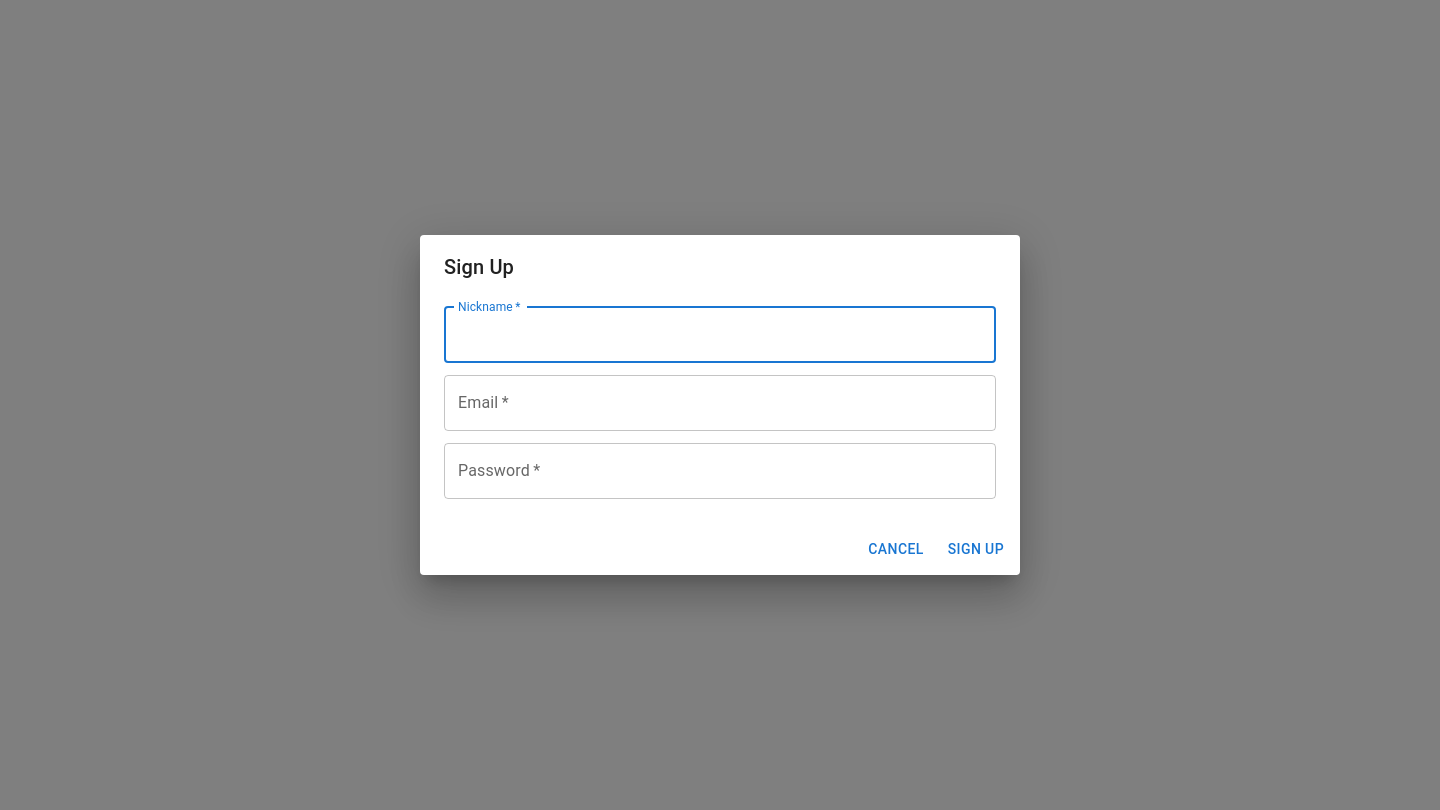
Test case: SignupModal › displays error message on signup failure
Type "testuser" into the field labelled "Nickname *" at (720, 335), box [444, 307, 996, 363]
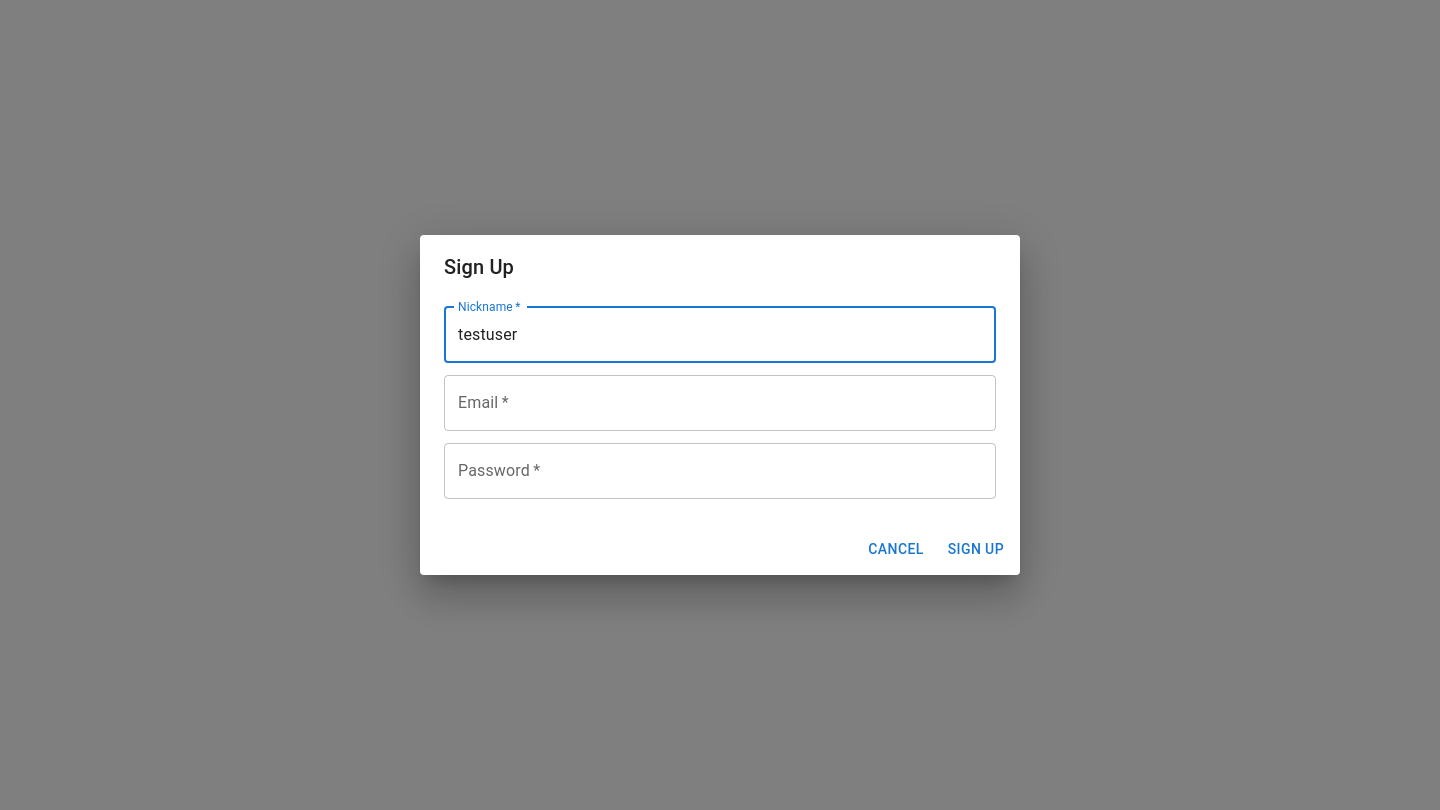
Type "test@example.com" into the field labelled "Email *" at (720, 403), box [444, 375, 996, 431]
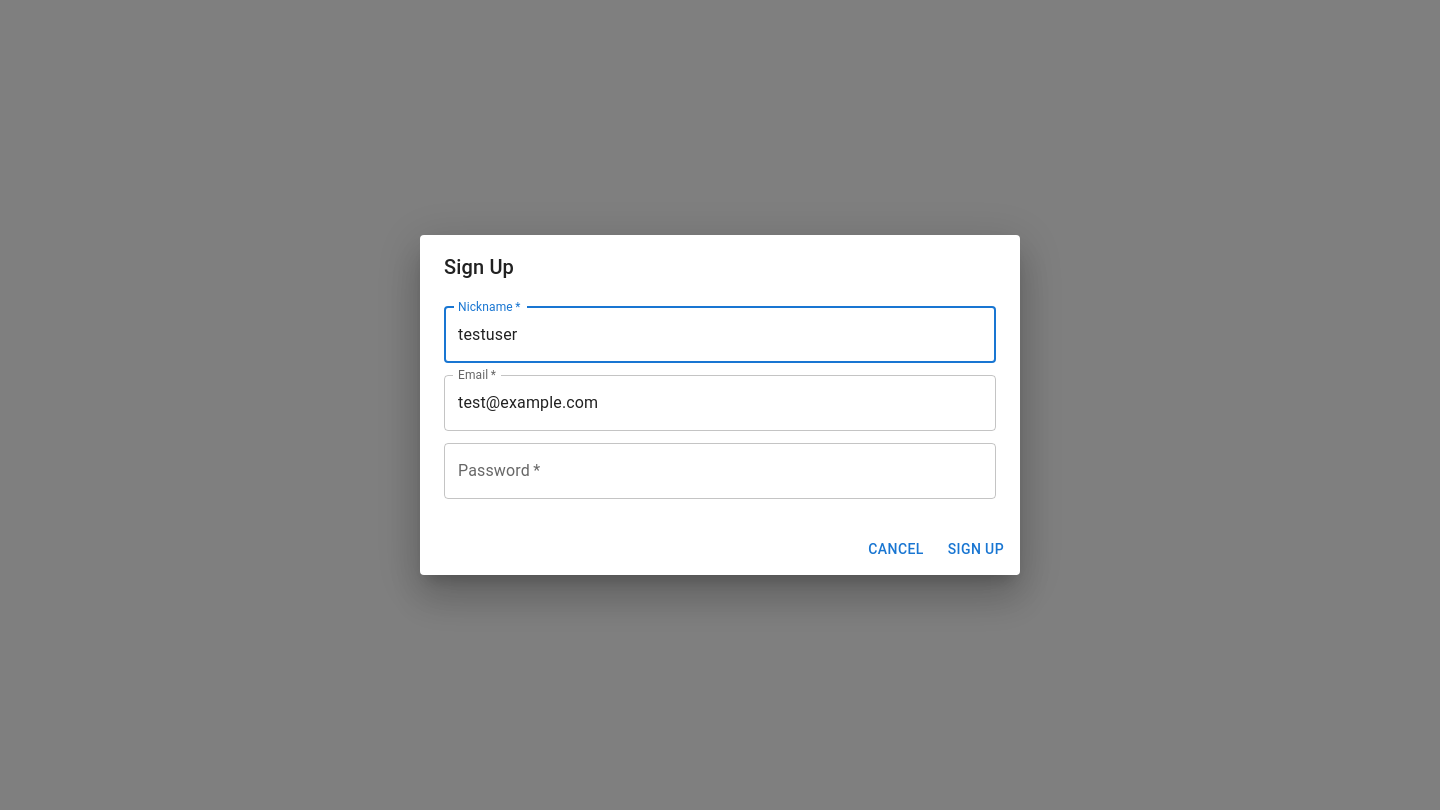
Type "password123" into the password field labelled "Password *" at (720, 471), box [444, 443, 996, 499]
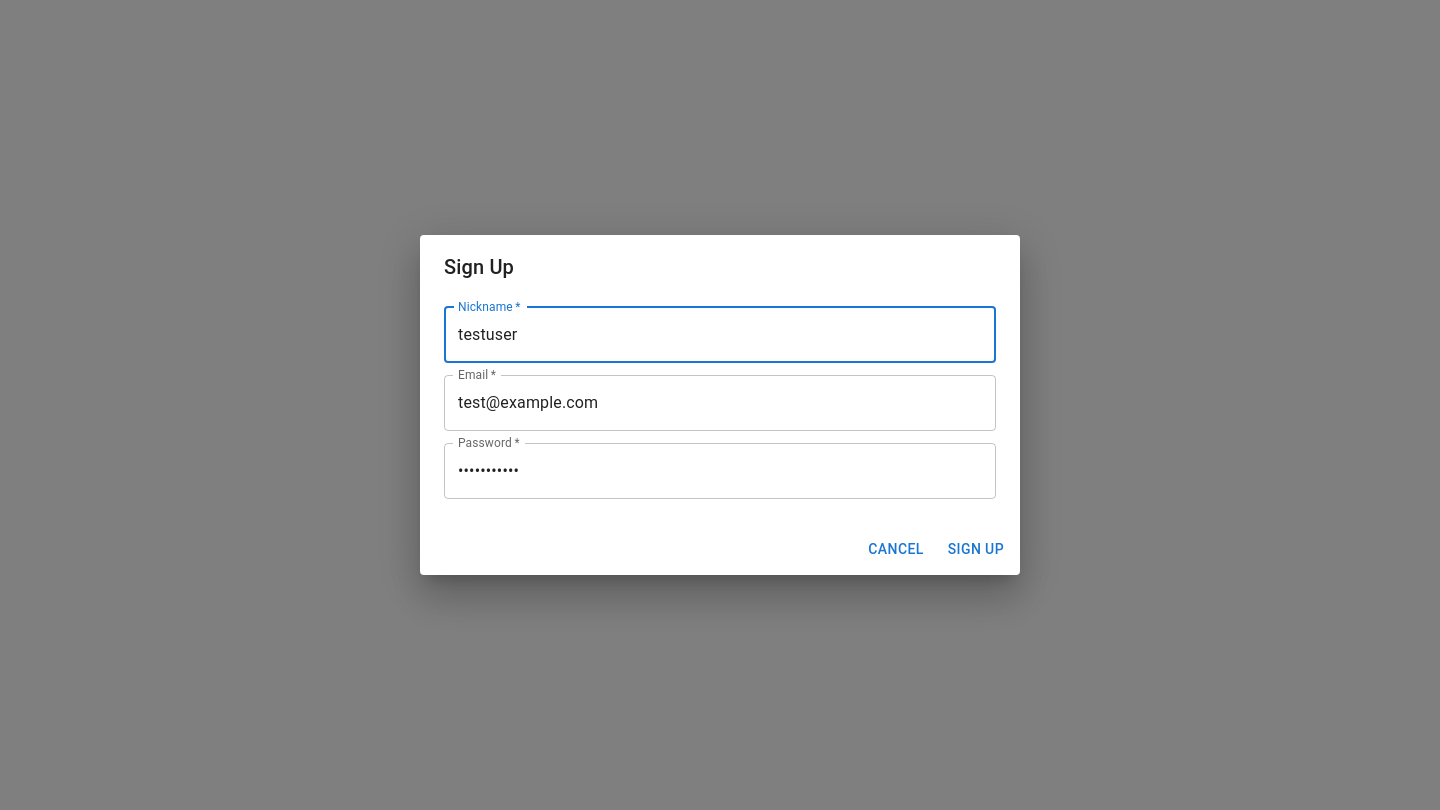
Click the button "Sign Up" at (976, 549), box [940, 531, 1012, 567]
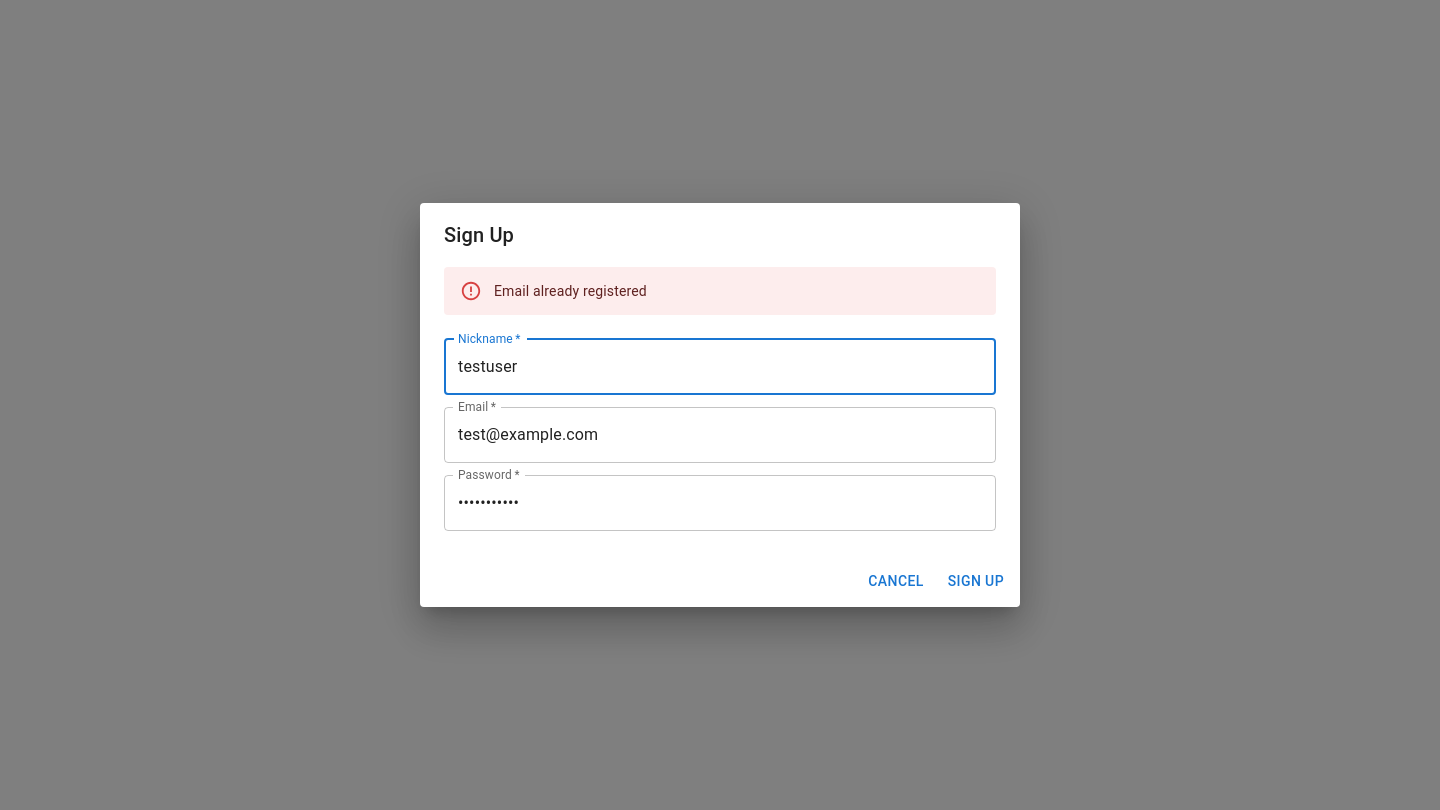
Expected: the text "Email already registered" is shown, [494, 283, 647, 299]
